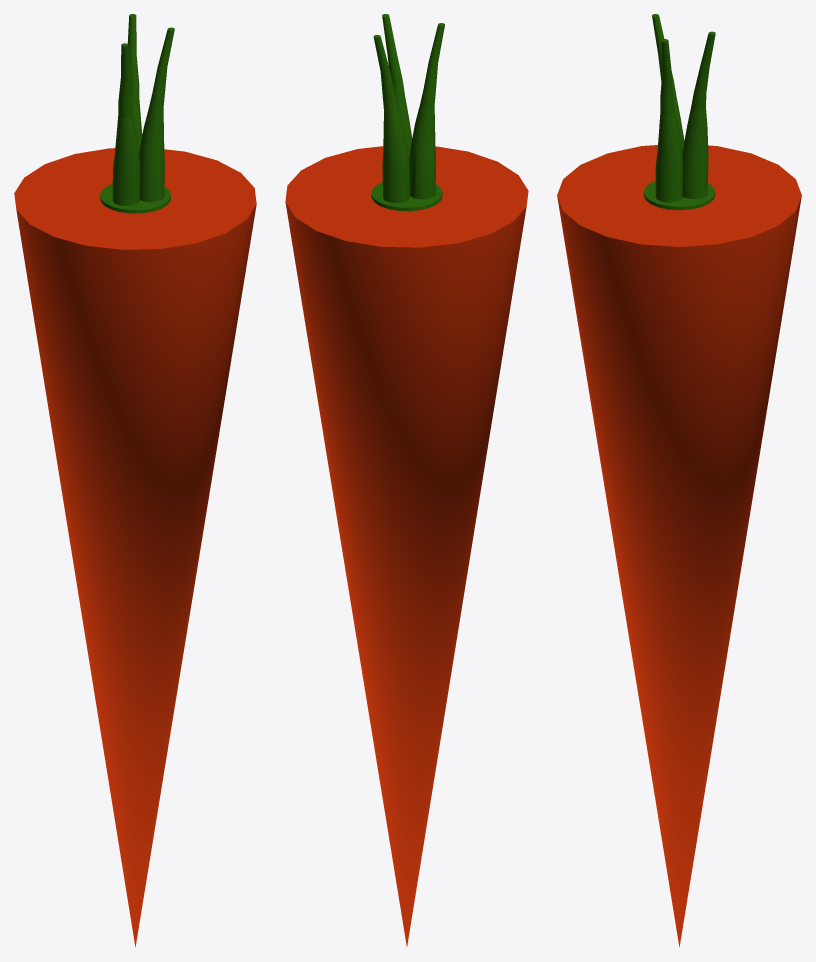
The model's file is carrot_model.dae.
3 views of the same model, side by side, from view 1: azimuth 30°, elevation 25°; view 2: azimuth 150°, elevation 25°; view 3: azimuth 270°, elevation 25° (orthographic).
Visible parts, largest first — view 1: pCone1_ncl1_1; view 2: pCone1_ncl1_1; view 3: pCone1_ncl1_1.
Boxes of the visible parts, box(x1,y1,x2,y2) form: pCone1_ncl1_1: box(14, 14, 256, 947); pCone1_ncl1_1: box(285, 14, 528, 946); pCone1_ncl1_1: box(557, 14, 801, 947).
Size of the model in its own units: 2 by 8.3 by 2.
